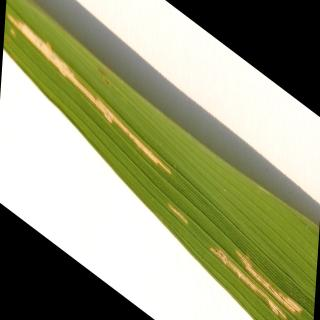Hawar-Daun: (9, 12, 171, 178), (209, 238, 304, 320), (168, 202, 188, 228)
